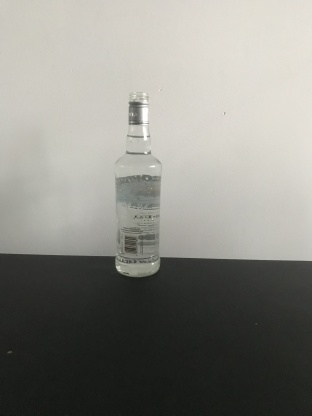nakretka: (126, 90, 151, 127)
